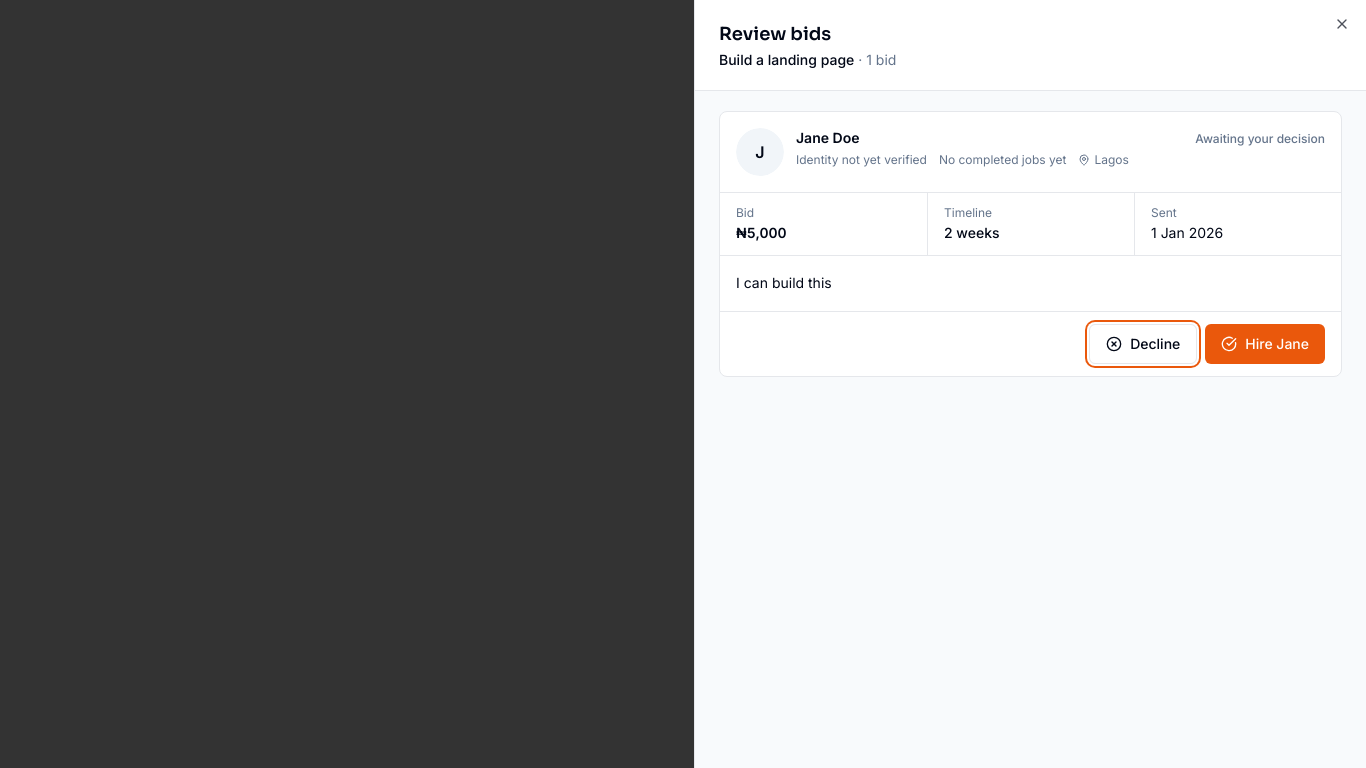
Test case: ProposalsModal › confirms a hire inline instead of a browser alert
This screenshot has width=1366, height=768.
Click the button "Hire Jane": (1265, 344) 1205,324 -> 1325,364
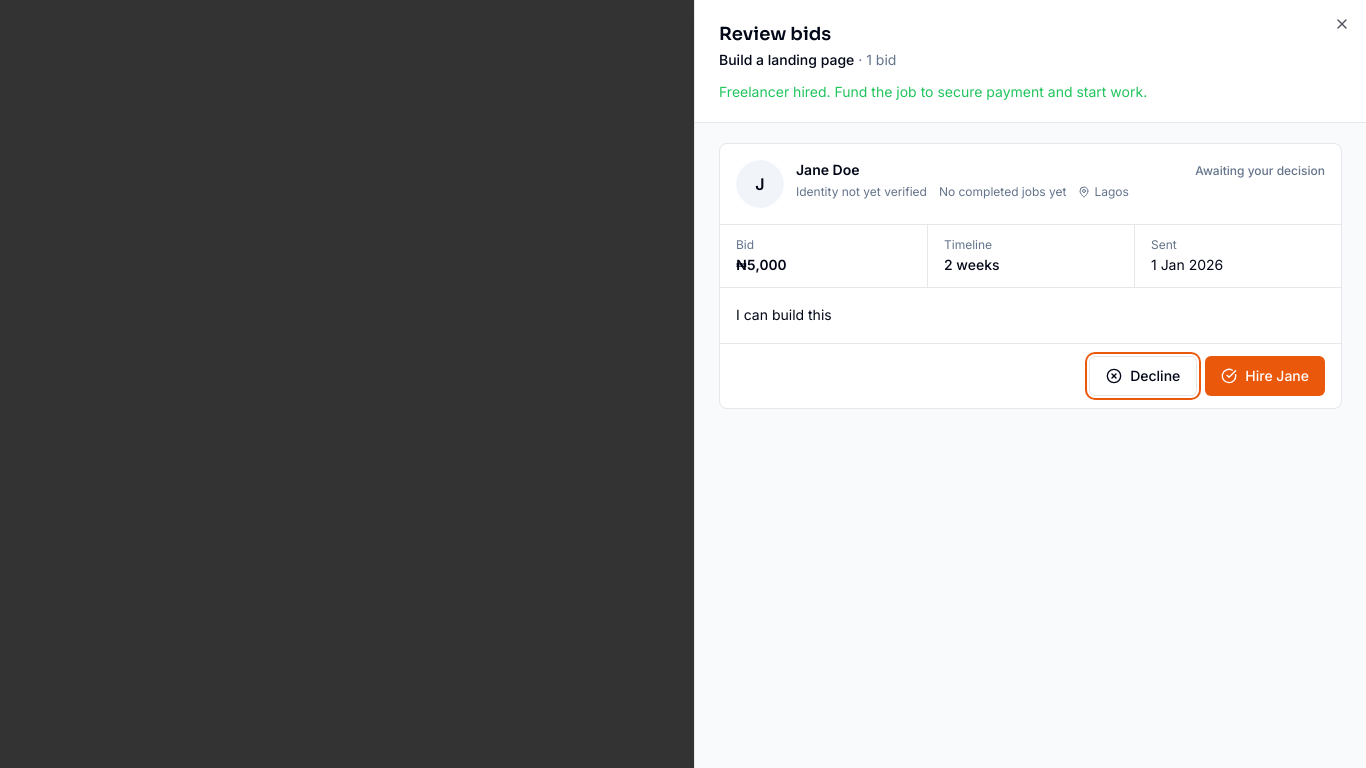
Check: the message shows "Freelancer hired", box 719,83 -> 1147,100
